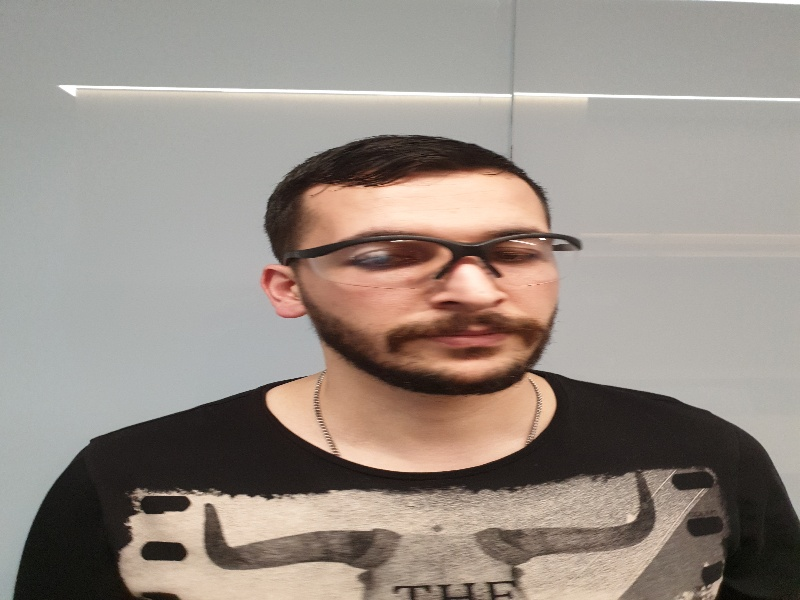Gozluk: (267, 233, 585, 290)
